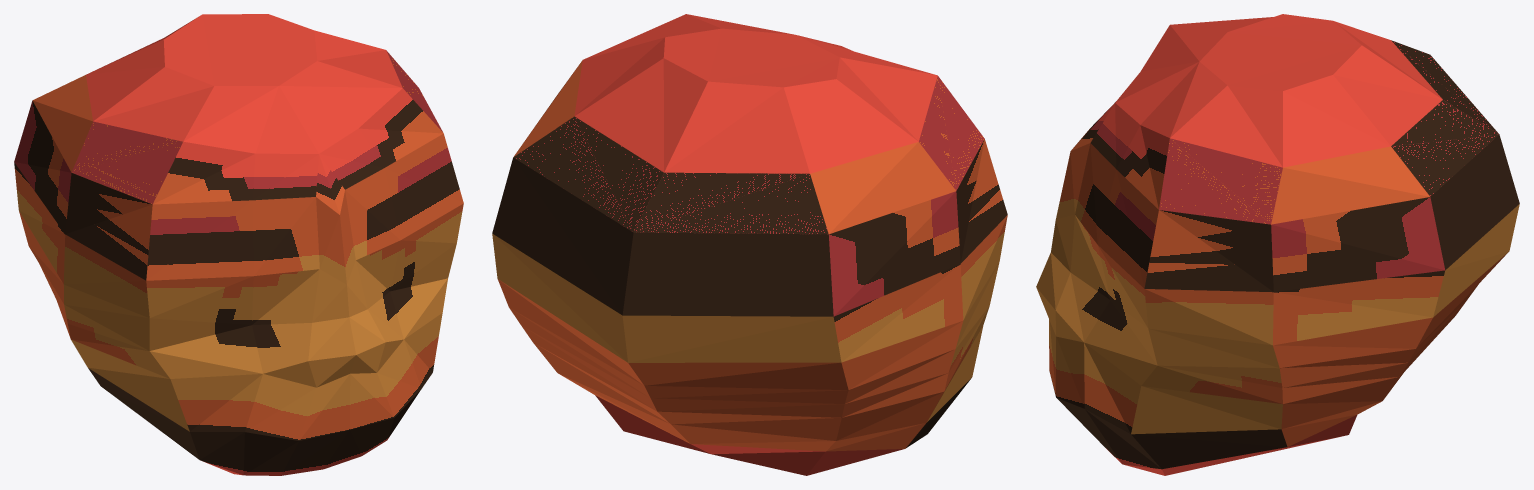
3 renders of one model, left to right at view 1: azimuth 30°, elevation 25°; view 2: azimuth 150°, elevation 25°; view 3: azimuth 270°, elevation 25°, orthographic. The views are drawn at different scales.
Parts seen in each view (by area): view 1: Sphere.015_Sphere.004; view 2: Sphere.015_Sphere.004; view 3: Sphere.015_Sphere.004.
Boxes of the visible parts, bbox=[...] form: Sphere.015_Sphere.004: bbox=[14, 14, 463, 475]; Sphere.015_Sphere.004: bbox=[492, 14, 1007, 475]; Sphere.015_Sphere.004: bbox=[1036, 14, 1519, 475].
Size of the model in its own units: 0.4873 by 0.4896 by 0.5336.
